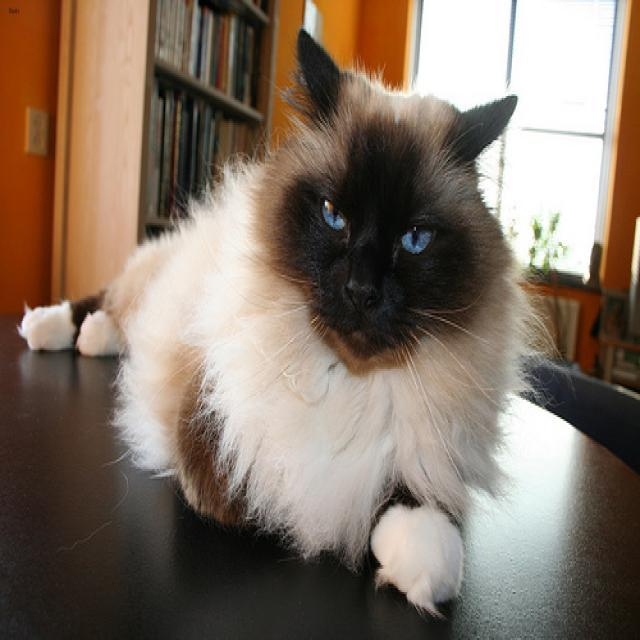Birman: (260, 23, 525, 379)
